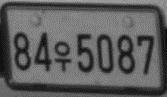0: (96, 33, 113, 73)
4: (34, 30, 53, 72)
5: (76, 33, 94, 73)
7: (136, 34, 154, 75)
8: (116, 34, 135, 74), (13, 31, 31, 70)
우: (53, 40, 72, 73)
